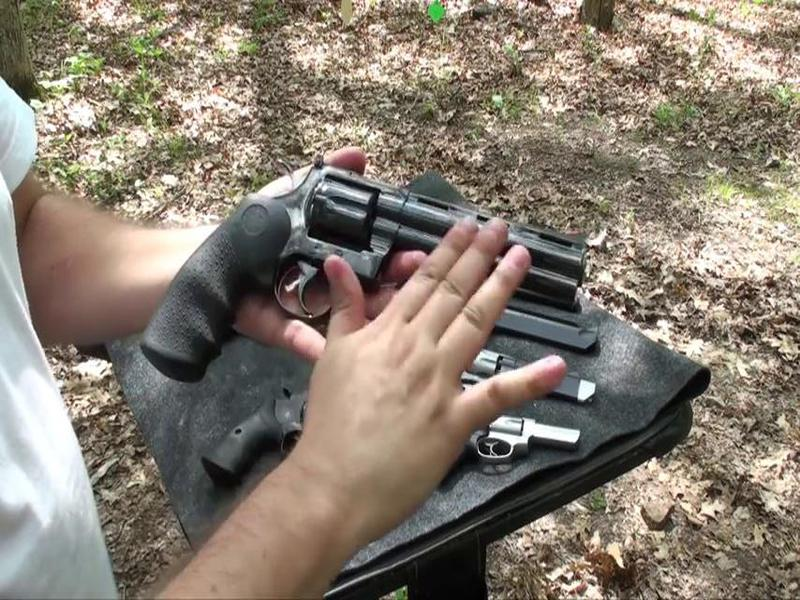Revolver: (183, 157, 575, 364)
